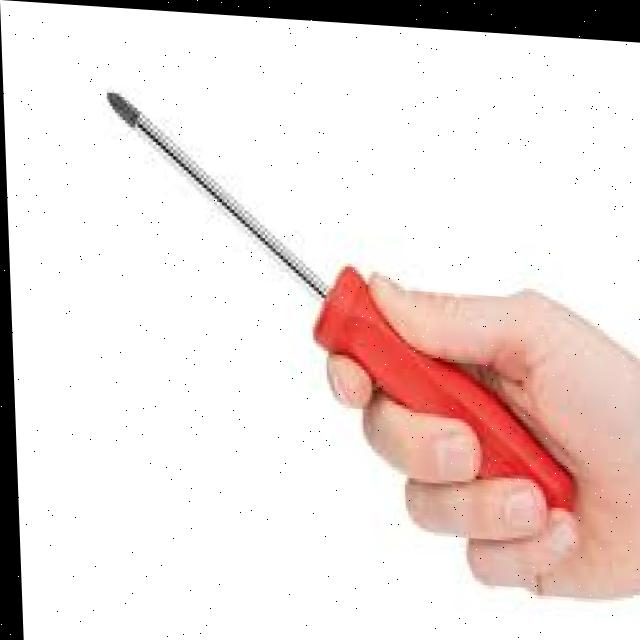Screwdriver: (108, 91, 569, 502)
